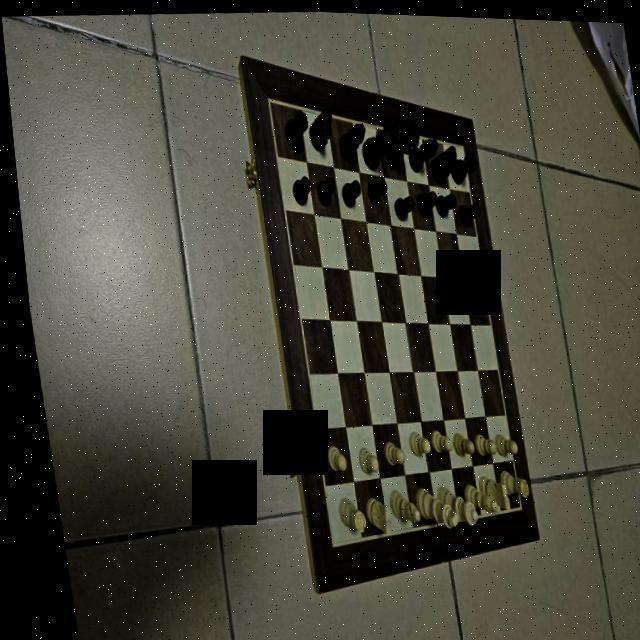chess-table-corners: (318, 532, 327, 552), (506, 498, 514, 512), (264, 90, 270, 108), (457, 138, 464, 148)
